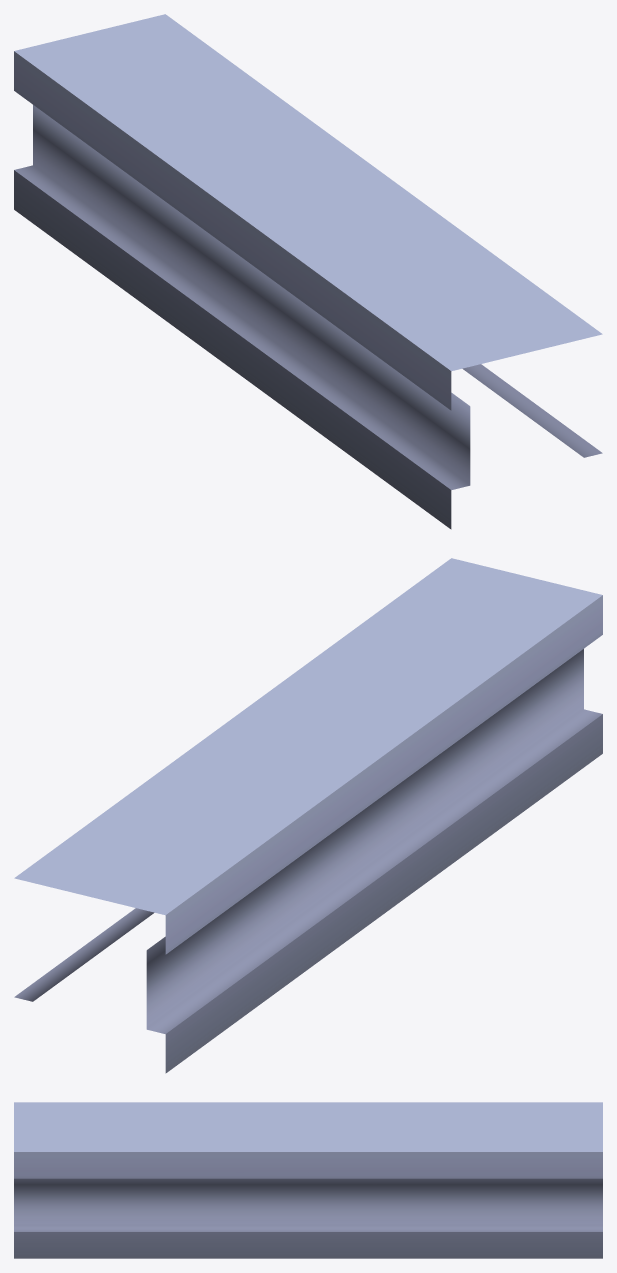
Rendered from kenney-coaster-coaster-monorail-track.glb.
3 renders of one model, top to bottom at view 1: azimuth 30°, elevation 25°; view 2: azimuth 150°, elevation 25°; view 3: azimuth 270°, elevation 25°, orthographic. The views are drawn at different scales.
Visible parts, largest first — view 1: coaster-monorail-track; view 2: coaster-monorail-track; view 3: coaster-monorail-track.
Boxes of the visible parts, x1=… form: coaster-monorail-track: x1=14, y1=14, x2=602, y2=529; coaster-monorail-track: x1=14, y1=558, x2=602, y2=1073; coaster-monorail-track: x1=14, y1=1102, x2=602, y2=1258.
Bounding box in the file's own units: 0.2 × 0.2 × 1.
1 material, 1 textured.
